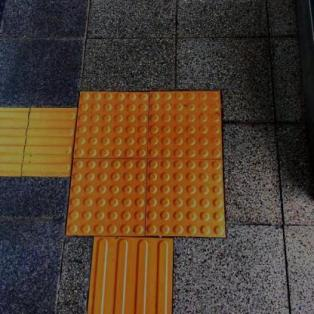Podoctatil: (15, 30, 257, 298), (87, 239, 173, 313), (0, 106, 71, 176)
